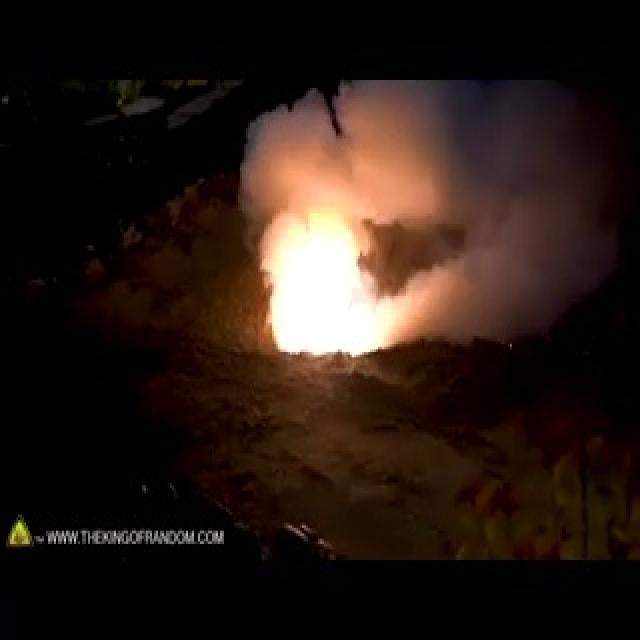Fire: (245, 196, 419, 375)
